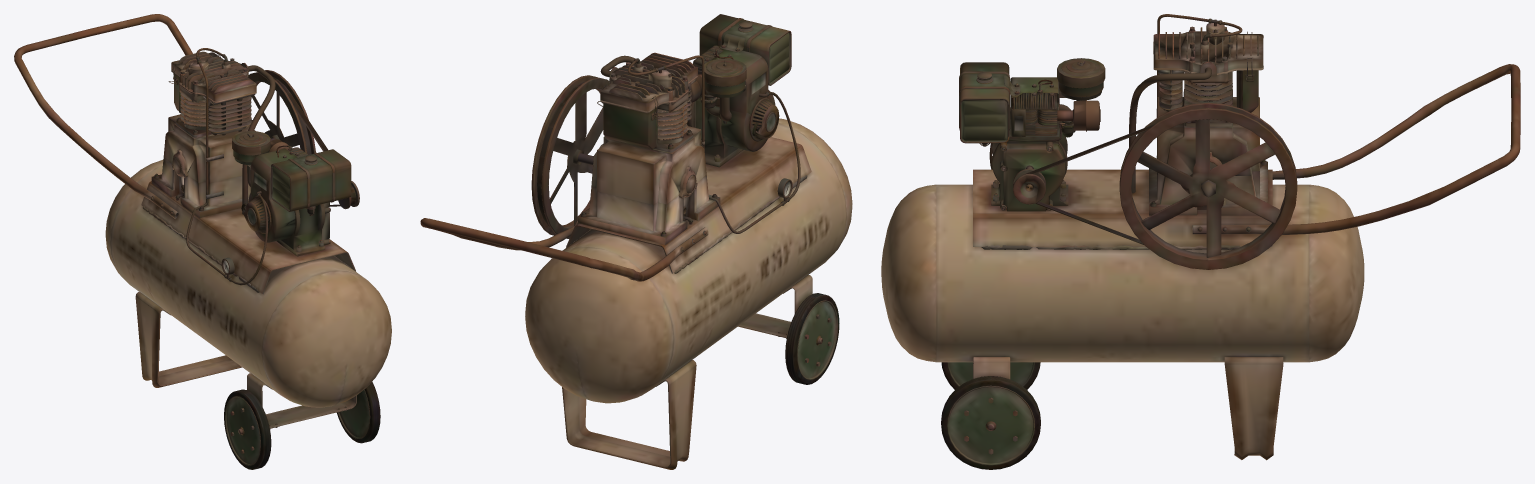
The model's file is old_military_compressor_lod1.glb.
The picture shows the model from 3 angles, left to right: view 1: azimuth 30°, elevation 25°; view 2: azimuth 150°, elevation 25°; view 3: azimuth 270°, elevation 25°; orthographic projection. The views are drawn at different scales.
Parts seen in each view (by area): view 1: old_military_compressor; view 2: old_military_compressor; view 3: old_military_compressor.
Part boxes in pixels (<box>): old_military_compressor: <box>14,14,391,469</box>; old_military_compressor: <box>420,14,852,469</box>; old_military_compressor: <box>881,14,1520,469</box>.
Bounding box in the file's own units: 0.5983 × 1.18 × 1.68.
2 materials, 2 textured.
